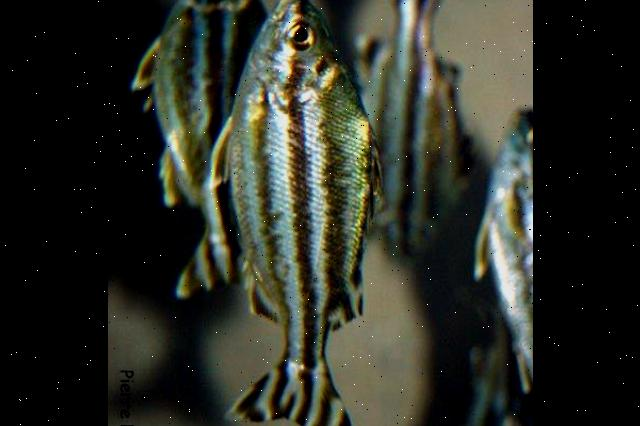Mulut: (261, 0, 335, 15)
Sirip Anal: (216, 256, 288, 336)
Sirip Ekor: (220, 357, 365, 426)
Sirip Perut: (194, 116, 238, 200)
Sirip Punggung: (330, 128, 398, 338)
